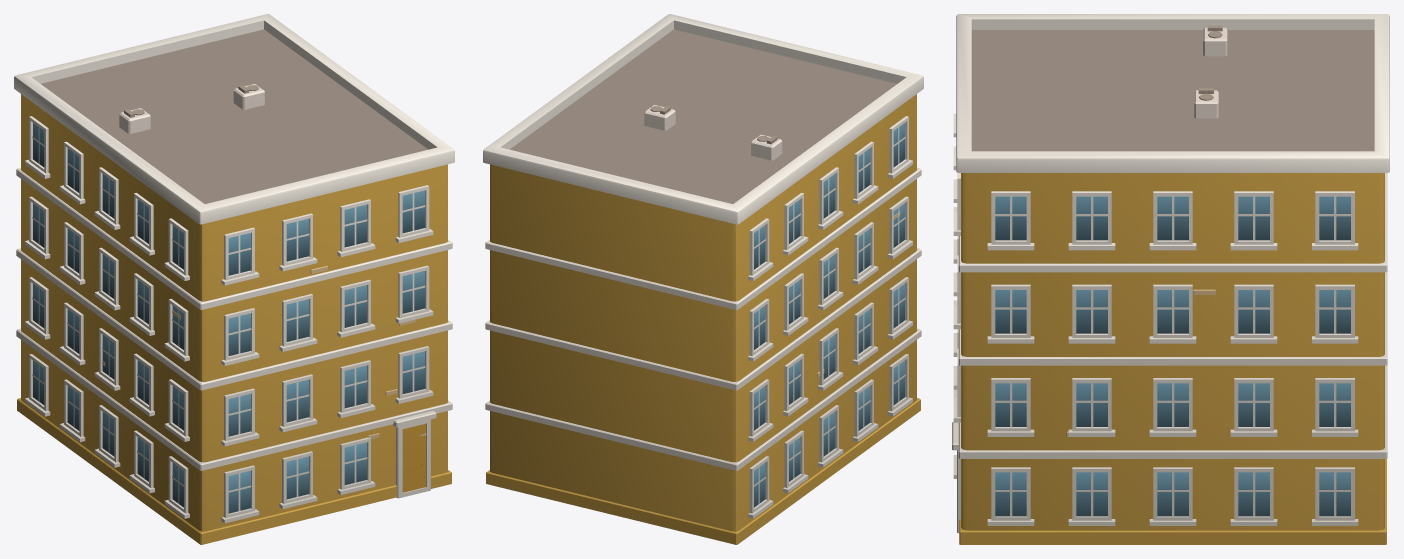
File: boylston_s9.glb
The picture shows the model from 3 angles, left to right: view 1: azimuth 30°, elevation 25°; view 2: azimuth 150°, elevation 25°; view 3: azimuth 270°, elevation 25°; orthographic projection. The views are drawn at different scales.
Visible parts, largest first — view 1: boylston_s9; view 2: boylston_s9; view 3: boylston_s9.
Part boxes in pixels (bbox=[...]): boylston_s9: bbox=[14, 14, 454, 544]; boylston_s9: bbox=[483, 14, 923, 544]; boylston_s9: bbox=[952, 14, 1389, 544].
Size of the model in its own units: 11.48 by 14.51 by 14.46.
Materials: 1 (1 with a texture image).
